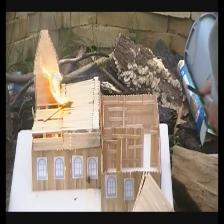fire: (40, 62, 72, 113)
